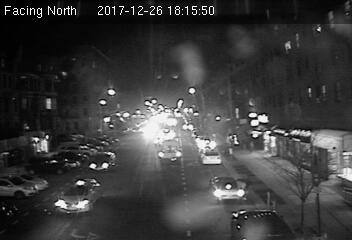car: (52, 177, 102, 212), (209, 174, 248, 202), (88, 152, 117, 170), (200, 149, 221, 165)
truck: (158, 142, 181, 163)
